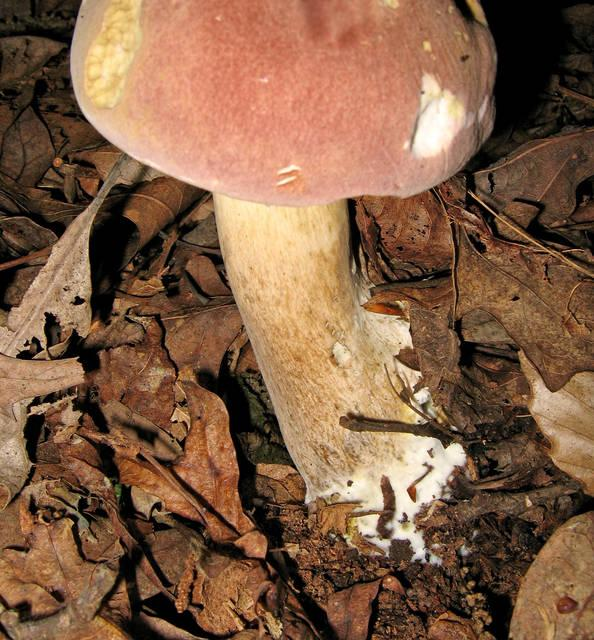poisonous_mushroom: (67, 0, 499, 564)
